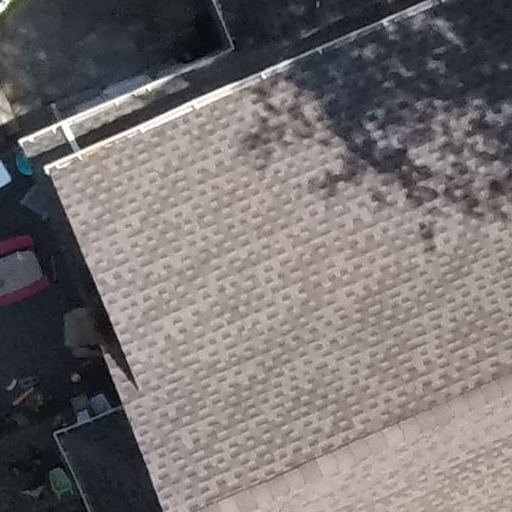toy: (42, 464, 77, 500)
